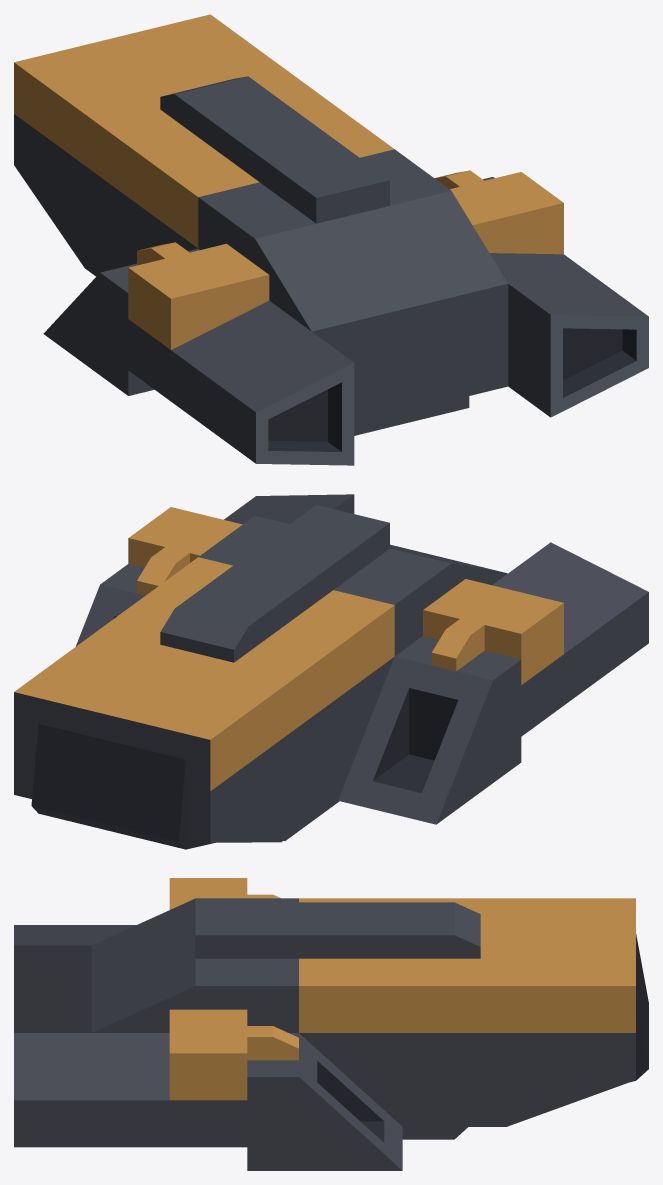
The model's file is station_hauler.glb.
3 views of the same model, one above another, from view 1: azimuth 30°, elevation 25°; view 2: azimuth 150°, elevation 25°; view 3: azimuth 270°, elevation 25° (orthographic). The views are drawn at different scales.
Parts seen in each view (by area): view 1: body; view 2: body; view 3: body.
Part boxes in pixels (x1=…): body: x1=14, y1=14, x2=648, y2=465; body: x1=14, y1=494, x2=648, y2=849; body: x1=14, y1=878, x2=648, y2=1170.
Size of the model in its own units: 1.6 by 0.8 by 2.45.
